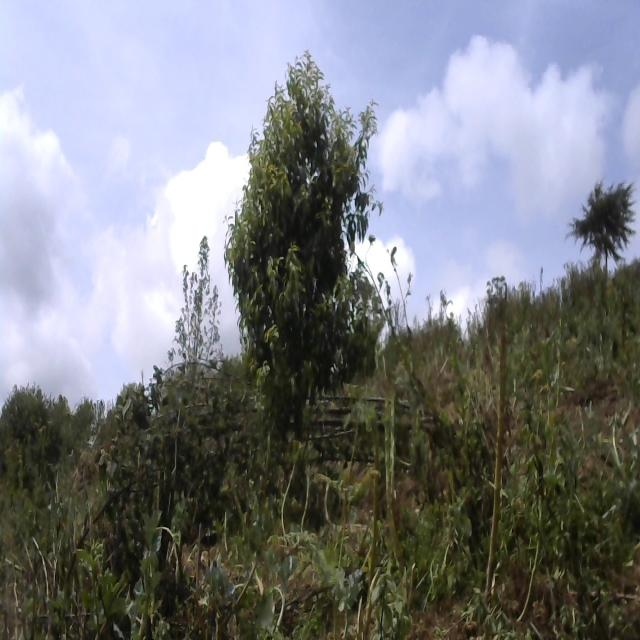Juniperus procesera: (573, 165, 634, 290)
Prunus Africana: (221, 36, 373, 502)
